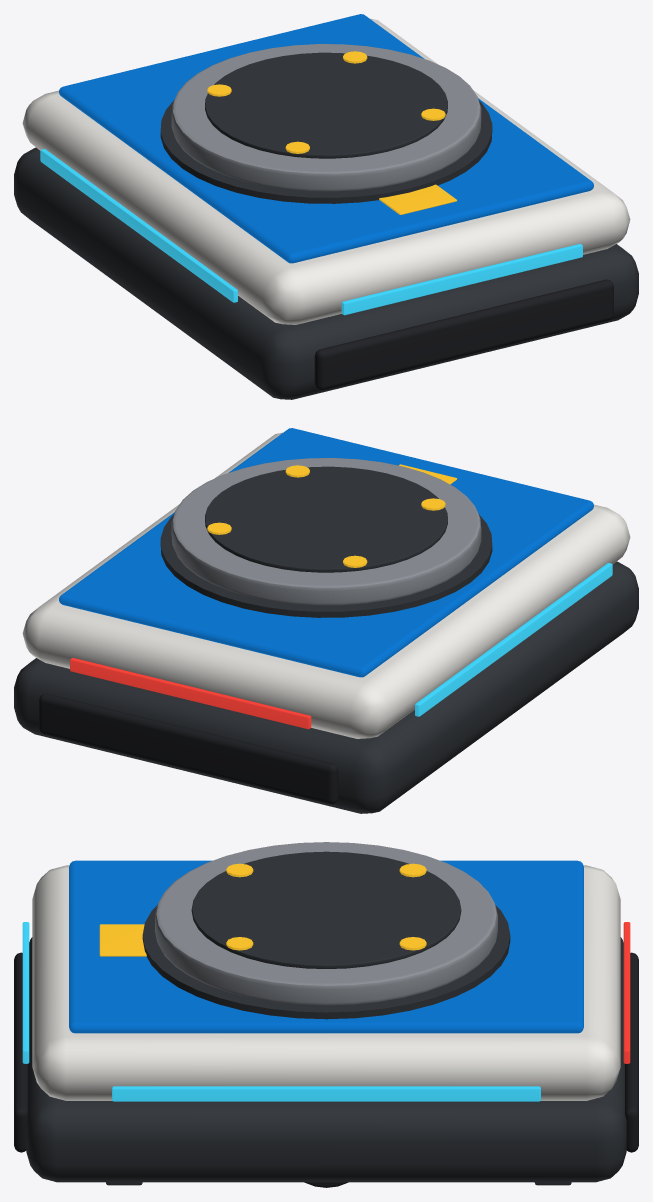
The model's file is amr.glb.
3 views of the same model, one above another, from view 1: azimuth 30°, elevation 25°; view 2: azimuth 150°, elevation 25°; view 3: azimuth 270°, elevation 25° (orthographic). The views are drawn at different scales.
Parts seen in each view (by area): view 1: body_geo, lift_top_geo, light_strip_geo; view 2: body_geo, lift_top_geo, light_strip_geo; view 3: body_geo, lift_top_geo, light_strip_geo.
Boxes of the visible parts, bbox=[...] form: body_geo: bbox=[14, 14, 638, 399]; lift_top_geo: bbox=[171, 44, 481, 191]; light_strip_geo: bbox=[40, 149, 582, 315]; body_geo: bbox=[14, 428, 638, 813]; lift_top_geo: bbox=[171, 458, 481, 605]; light_strip_geo: bbox=[70, 563, 612, 729]; body_geo: bbox=[14, 860, 638, 1182]; lift_top_geo: bbox=[155, 842, 497, 1005]; light_strip_geo: bbox=[22, 922, 630, 1101].
Size of the model in its own units: 0.7921 by 0.364 by 1.02.
Materials: 2 (2 with a texture image).
